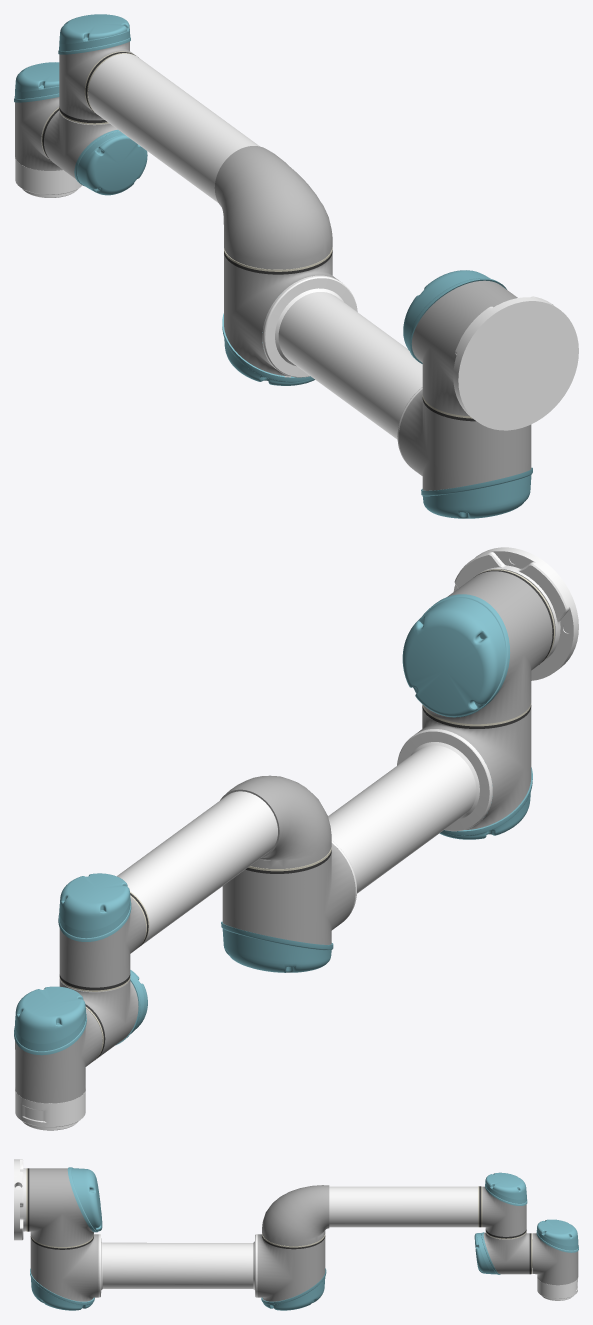
Rendered from Polyscope_hp_joined.fbx.
The picture shows the model from 3 angles, top to bottom: view 1: azimuth 30°, elevation 25°; view 2: azimuth 150°, elevation 25°; view 3: azimuth 270°, elevation 25°; orthographic projection. The views are drawn at different scales.
Visible parts, largest first — view 1: 2_BodyEnd_reduced, 3_BodyEnd_reduced, 0_BasePlate_reduced, 1_Body_reduced, 4_Body_reduced, 5_Body_reduced, 6_MetalBodyEnd_reduced; view 2: 2_BodyEnd_reduced, 3_BodyEnd_reduced, 1_Body_reduced, 5_Body_reduced, 0_BasePlate_reduced, 4_Body_reduced, 6_MetalBodyEnd_reduced; view 3: 2_BodyEnd_reduced, 3_BodyEnd_reduced, 1_Body_reduced, 5_Body_reduced, 4_Body_reduced, 0_BasePlate_reduced, 6_MetalBodyEnd_reduced.
Boxes of the visible parts, box(x1,y1,x2,y2) form: 2_BodyEnd_reduced: box(222, 250, 532, 518); 3_BodyEnd_reduced: box(58, 14, 332, 271); 0_BasePlate_reduced: box(453, 296, 578, 430); 1_Body_reduced: box(403, 270, 517, 421); 4_Body_reduced: box(42, 96, 147, 195); 5_Body_reduced: box(14, 62, 62, 170); 6_MetalBodyEnd_reduced: box(15, 157, 82, 197); 2_BodyEnd_reduced: box(221, 708, 532, 972); 3_BodyEnd_reduced: box(58, 775, 331, 990); 1_Body_reduced: box(402, 570, 553, 728); 5_Body_reduced: box(14, 986, 103, 1103); 0_BasePlate_reduced: box(453, 547, 578, 680); 4_Body_reduced: box(59, 970, 147, 1059); 6_MetalBodyEnd_reduced: box(15, 1087, 85, 1130); 2_BodyEnd_reduced: box(30, 1234, 326, 1310); 3_BodyEnd_reduced: box(262, 1172, 527, 1247); 1_Body_reduced: box(27, 1167, 102, 1249); 5_Body_reduced: box(531, 1219, 578, 1285); 4_Body_reduced: box(474, 1231, 531, 1274); 0_BasePlate_reduced: box(14, 1159, 27, 1240); 6_MetalBodyEnd_reduced: box(537, 1277, 578, 1300).
Bounding box in the file's own units: 14.9 × 28.2 × 104.
